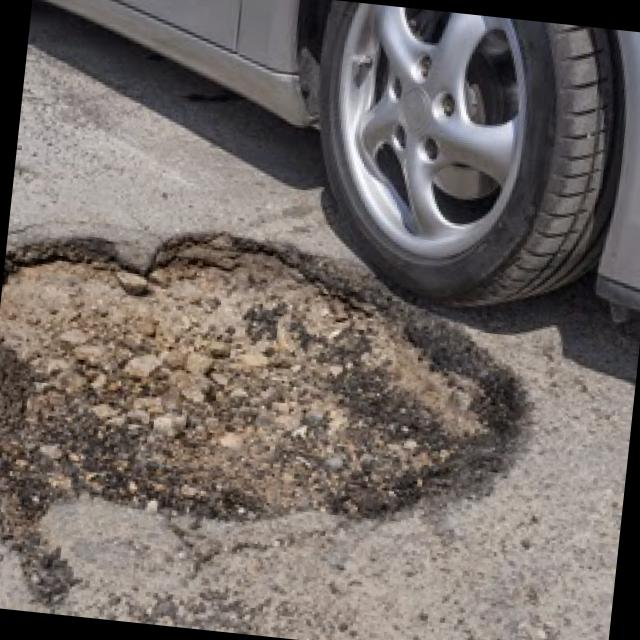Potholes: (0, 178, 613, 615)
